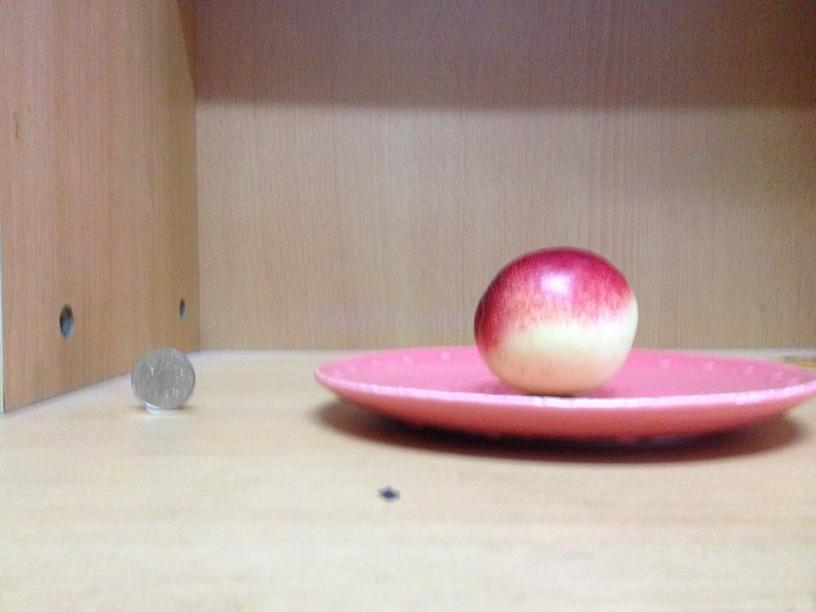coin: (125, 344, 198, 411)
peach: (474, 246, 639, 388)
